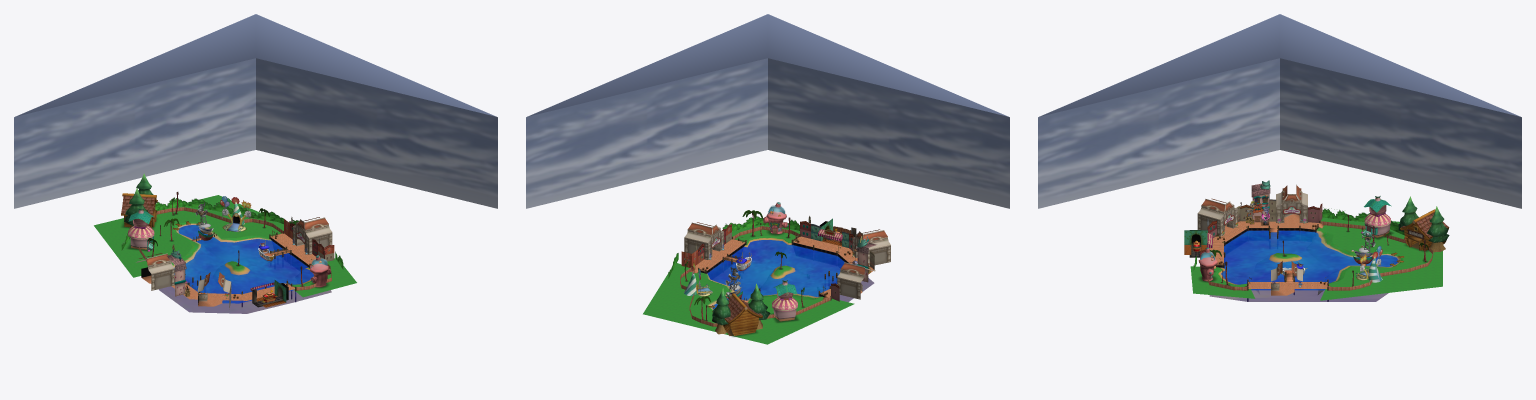
Rendered from donalds_dock.glb.
The picture shows the model from 3 angles, left to right: view 1: azimuth 30°, elevation 25°; view 2: azimuth 150°, elevation 25°; view 3: azimuth 270°, elevation 25°; orthographic projection.
Parts seen in each view (by area): view 1: skypanel5, skypanel4, o1, top_surface, o43, o2, o44, tunnel_down_entrance_2 (×2), background_foliage, flat, o3, o4 (+3 smaller); view 2: skypanel1, skypanel6, o1, top_surface, o43, tunnel_down_entrance_2 (×3), o2, o45, flat, o3, large_boardwalk_support, large_boardwalk (+5 smaller); view 3: skypanel2, skypanel3, o1, top_surface, o43, o2, o44, large_boardwalk_support, o4, flat, large_boardwalk, tunnel_down_entrance_2 (+6 smaller).
Part boxes in pixels (x1,y1,x2,y2): skypanel5: (256,58,497,208); skypanel4: (14,58,255,208); o1: (15,14,496,116); top_surface: (174,225,313,303); o43: (94,195,283,277); o2: (159,243,331,313); o44: (171,222,273,279); tunnel_down_entrance_2 (×2): (136,217,332,290); background_foliage: (121,198,298,250); flat: (127,208,154,251); o3: (213,261,262,290); o4: (293,258,356,297); skypanel1: (768,58,1009,208); skypanel6: (526,58,767,208); o1: (527,14,1008,116); top_surface: (707,240,844,309); o43: (643,263,854,344); tunnel_down_entrance_2 (×3): (684,222,890,299); o2: (714,255,874,302); o45: (741,236,795,260); flat: (771,280,798,322); o3: (762,265,806,294); large_boardwalk_support: (793,242,848,296); large_boardwalk: (793,236,874,297); skypanel2: (1038,58,1279,208); skypanel3: (1280,58,1521,208); o1: (1039,14,1520,116); top_surface: (1221,231,1397,290); o43: (1317,217,1442,300); o2: (1209,241,1388,301); o44: (1307,230,1403,294); large_boardwalk_support: (1216,227,1317,267); o4: (1190,266,1255,298); flat: (1361,196,1393,239); large_boardwalk: (1209,221,1319,264); tunnel_down_entrance_2: (1197,198,1237,236).
Bounding box in the file's own units: 698 × 372 × 604.
211 materials, 204 textured.
